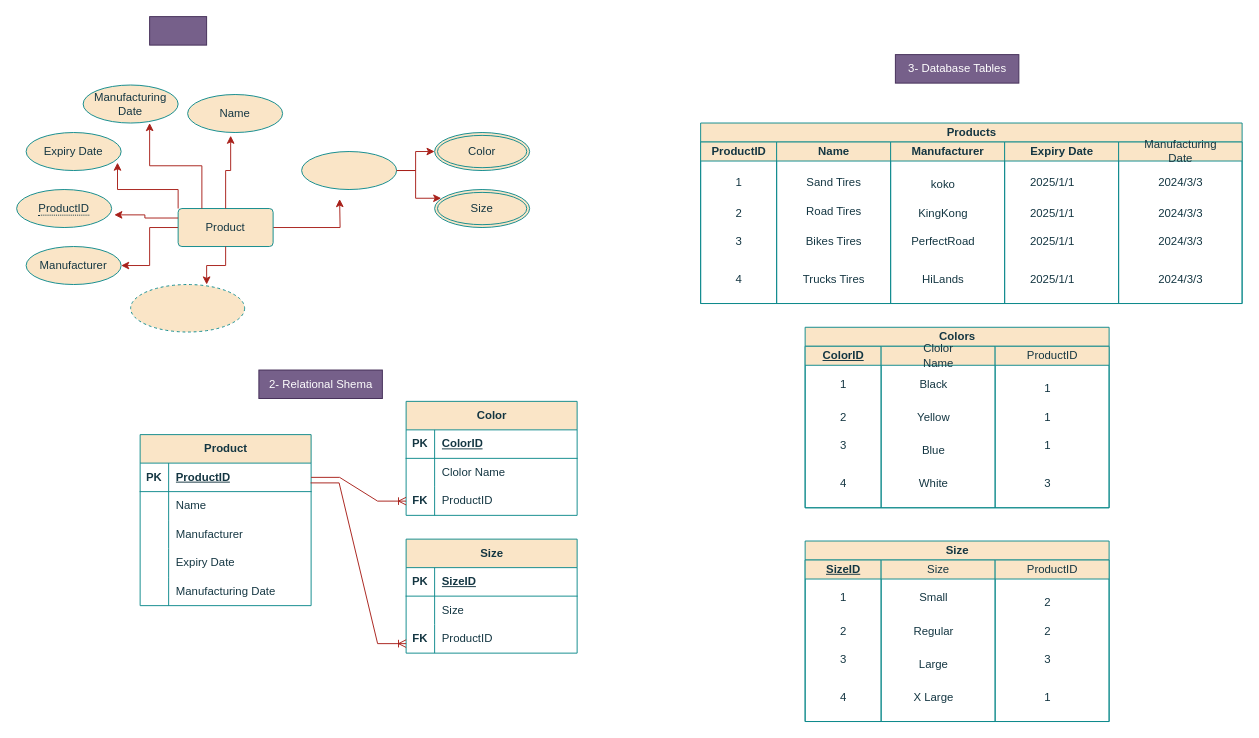
This 1259x738 diagram has some shape labels left out. Each missing label, with the centre of its shape:
"1- ERD" belongs at (178,30).
"Available Usage Time" belongs at (187,308).
"Characteristics" belongs at (349,170).
